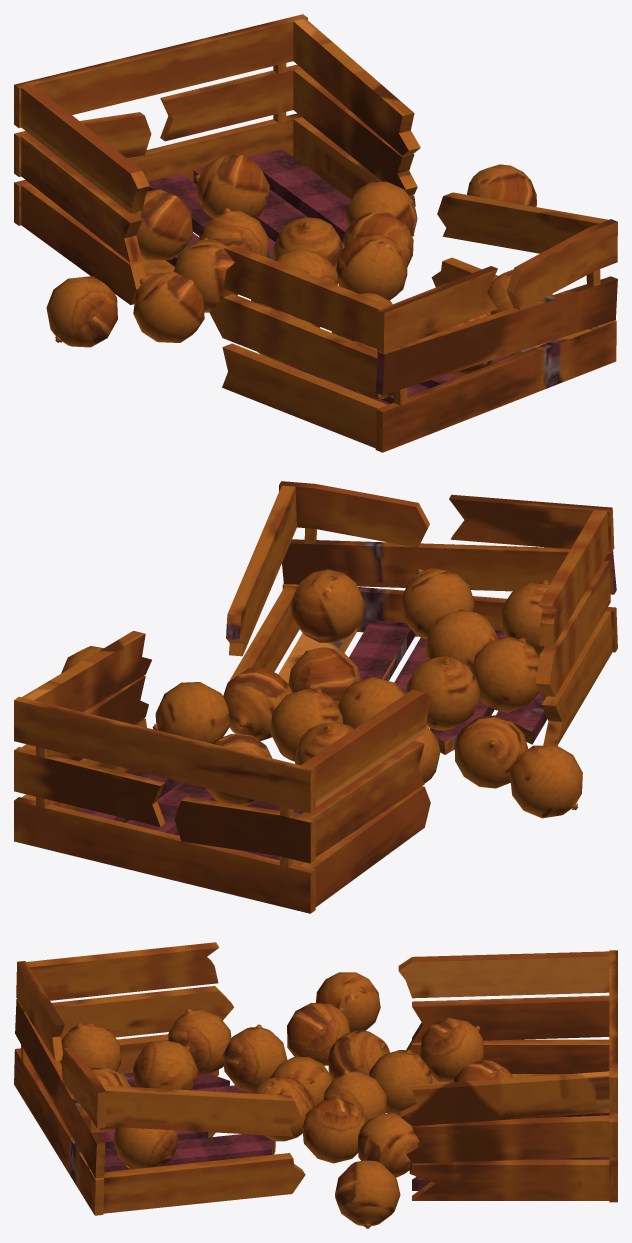
File: broken fruit crate_7.fbx
3 views of the same model, one above another, from view 1: azimuth 30°, elevation 25°; view 2: azimuth 150°, elevation 25°; view 3: azimuth 270°, elevation 25° (orthographic). The views are drawn at different scales.
Parts seen in each view (by area): view 1: Cube.047, Cube.046, Plane.2042, Plane.2045, Plane.2041, Plane.2046, Plane.2036, Plane.2051, Plane.2047, Plane.2053, Plane.2038, Plane.2048 (+3 smaller); view 2: Cube.047, Cube.046, Plane.2042, Plane.2040, Plane.2039, Plane.2045, Plane.2052, Plane.2047, Plane.2050, Plane.2037, Plane.2053, Plane.2049 (+6 smaller); view 3: Cube.047, Cube.046, Plane.2038, Plane.2050, Plane.2036, Plane.2052, Plane.2045, Plane.2039, Plane.2047, Plane.2049, Plane.2042, Plane.2048 (+8 smaller).
Boxes of the visible parts, bbox=[...] form: Cube.047: bbox=[14, 14, 420, 304]; Cube.046: bbox=[209, 192, 617, 452]; Plane.2042: bbox=[46, 276, 117, 347]; Plane.2045: bbox=[133, 272, 204, 342]; Plane.2041: bbox=[194, 155, 269, 218]; Plane.2046: bbox=[336, 235, 407, 300]; Plane.2036: bbox=[133, 189, 192, 260]; Plane.2051: bbox=[173, 237, 237, 312]; Plane.2047: bbox=[346, 181, 417, 236]; Plane.2053: bbox=[272, 217, 344, 270]; Plane.2038: bbox=[467, 164, 536, 206]; Plane.2048: bbox=[199, 208, 268, 257]; Cube.047: bbox=[14, 631, 432, 913]; Cube.046: bbox=[226, 481, 617, 754]; Plane.2042: bbox=[509, 745, 582, 818]; Plane.2040: bbox=[290, 569, 365, 643]; Plane.2039: bbox=[472, 637, 539, 712]; Plane.2045: bbox=[454, 715, 528, 788]; Plane.2052: bbox=[406, 656, 480, 730]; Plane.2047: bbox=[152, 682, 229, 743]; Plane.2050: bbox=[223, 667, 292, 741]; Plane.2037: bbox=[400, 568, 474, 639]; Plane.2053: bbox=[270, 688, 342, 761]; Plane.2049: bbox=[425, 609, 497, 669]; Cube.047: bbox=[398, 950, 617, 1202]; Cube.046: bbox=[14, 942, 305, 1215]; Plane.2038: bbox=[335, 1160, 400, 1228]; Plane.2050: bbox=[302, 1098, 366, 1163]; Plane.2036: bbox=[420, 1018, 483, 1081]; Plane.2052: bbox=[223, 1024, 287, 1092]; Plane.2045: bbox=[287, 1003, 350, 1065]; Plane.2039: bbox=[168, 1008, 231, 1075]; Plane.2047: bbox=[358, 1113, 419, 1177]; Plane.2049: bbox=[132, 1040, 198, 1090]; Plane.2042: bbox=[315, 972, 380, 1032]; Plane.2048: bbox=[369, 1049, 432, 1115].
Bounding box in the file's own units: 45.62 × 13.31 × 53.78.
